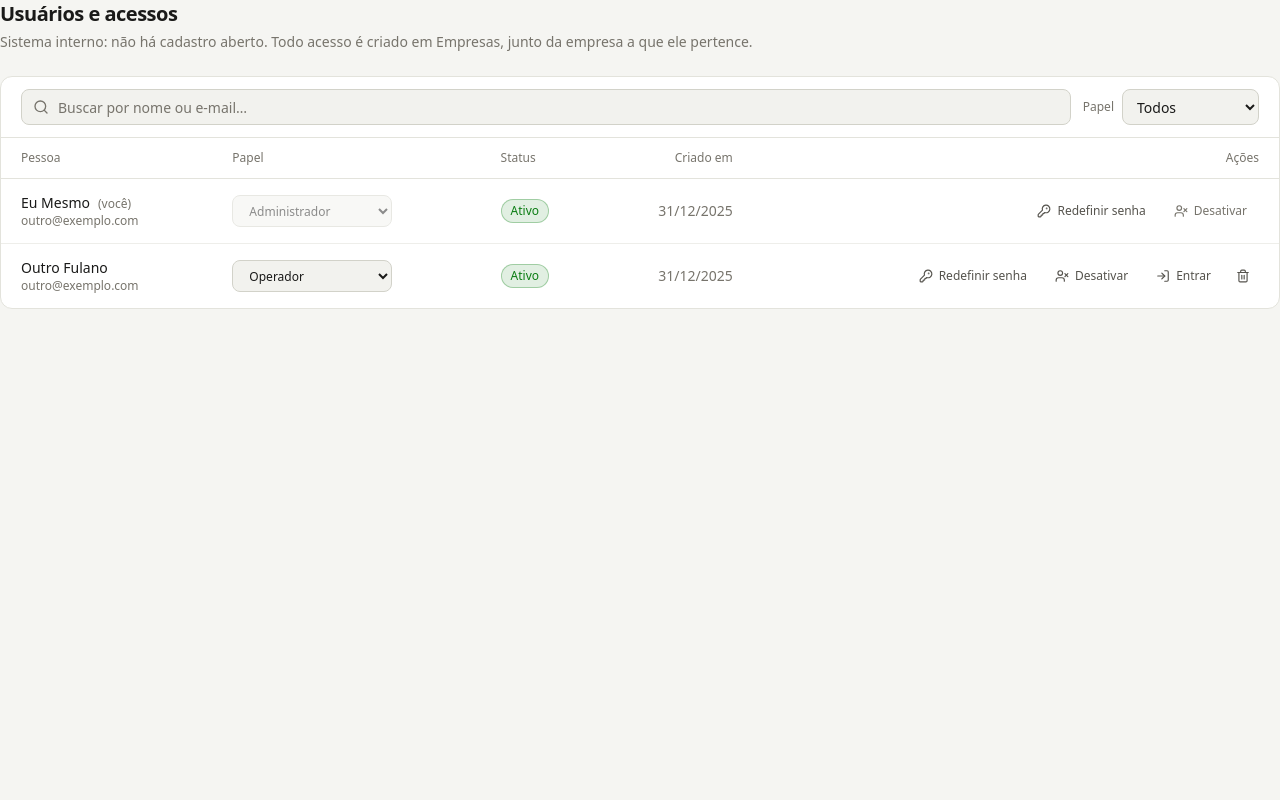
Test: ListaUsuarios — excluir acesso › o clique abre a confirmação com nome e e-mail, e não exclui sozinho
The image size is (1280, 800).
Click the button named "Excluir o acesso de Outro Fulano".
click(1243, 276)  # box [1227,260,1259,292]
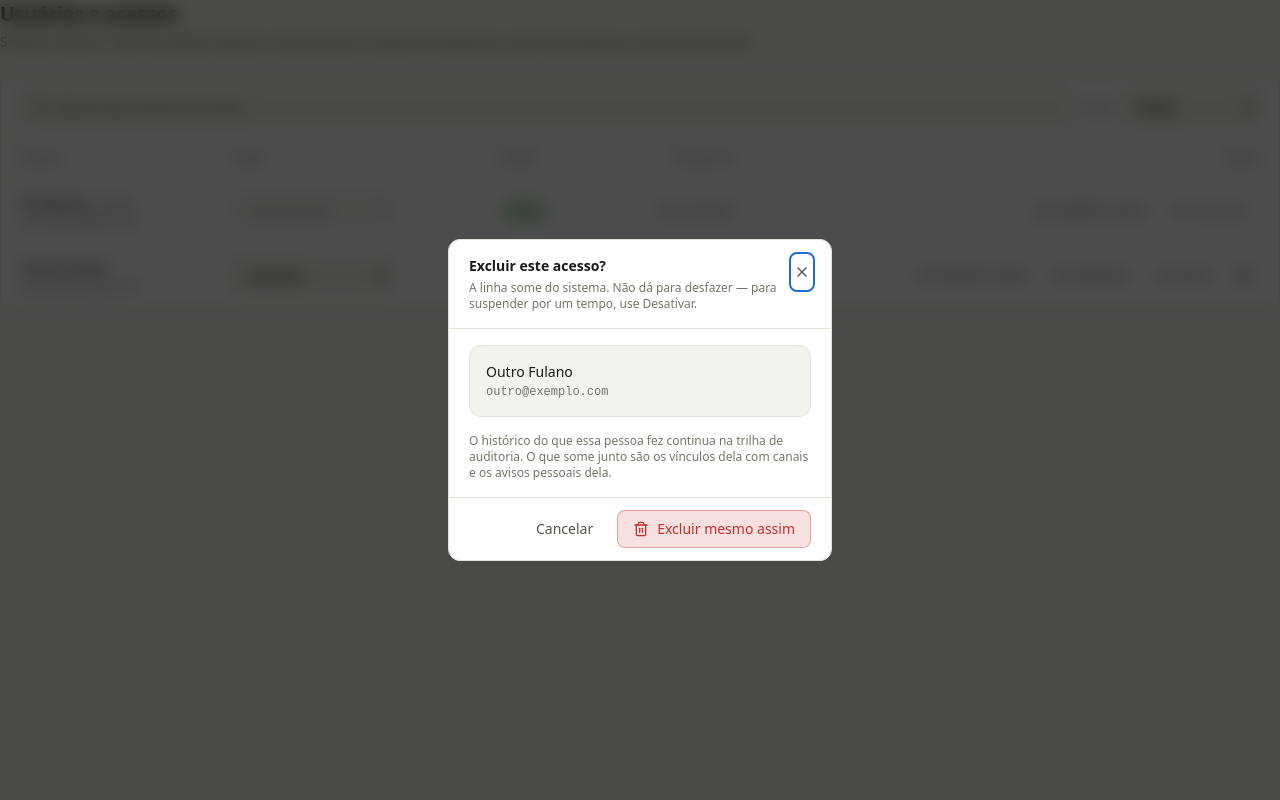
Now the text "outro@exemplo.com" is shown, box [486,385,608,399]
Now the text "Outro Fulano" is shown, box [486,362,573,381]
